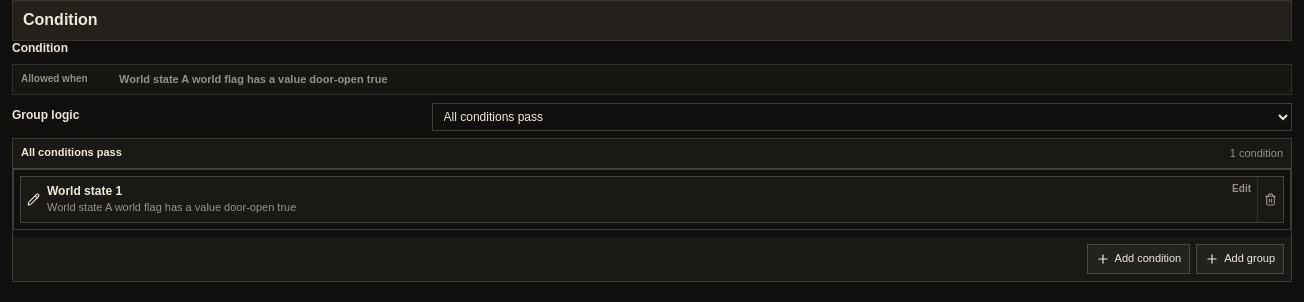
Test case: ConditionBuilderEditor › opens a condition from a group for editing
Click the button "Edit". click: (85, 191)
box: [21,177,1257,222]
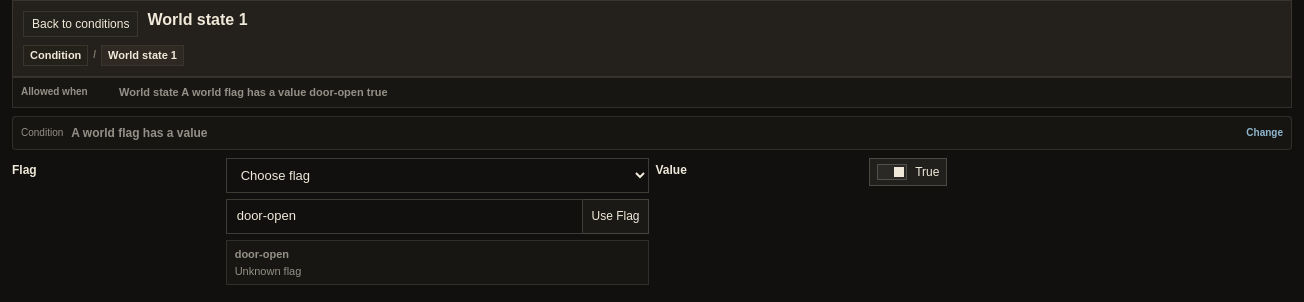
Check: the button "Back to conditions" is shown, box [23,11,138,37]
Check: the heading "World state 1" is shown, box [147,11,248,30]
